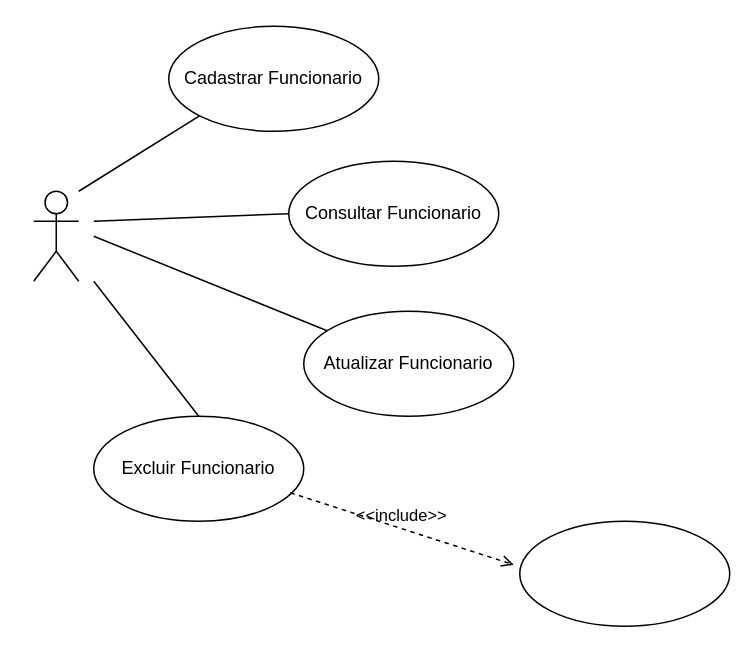
This 756x653 diagram has some shape labels left out. Each missing label, with the box of its shape:
Solicitar Confirmação de Exclusão: (518, 520, 730, 626)
Usuario: (32, 190, 79, 281)
